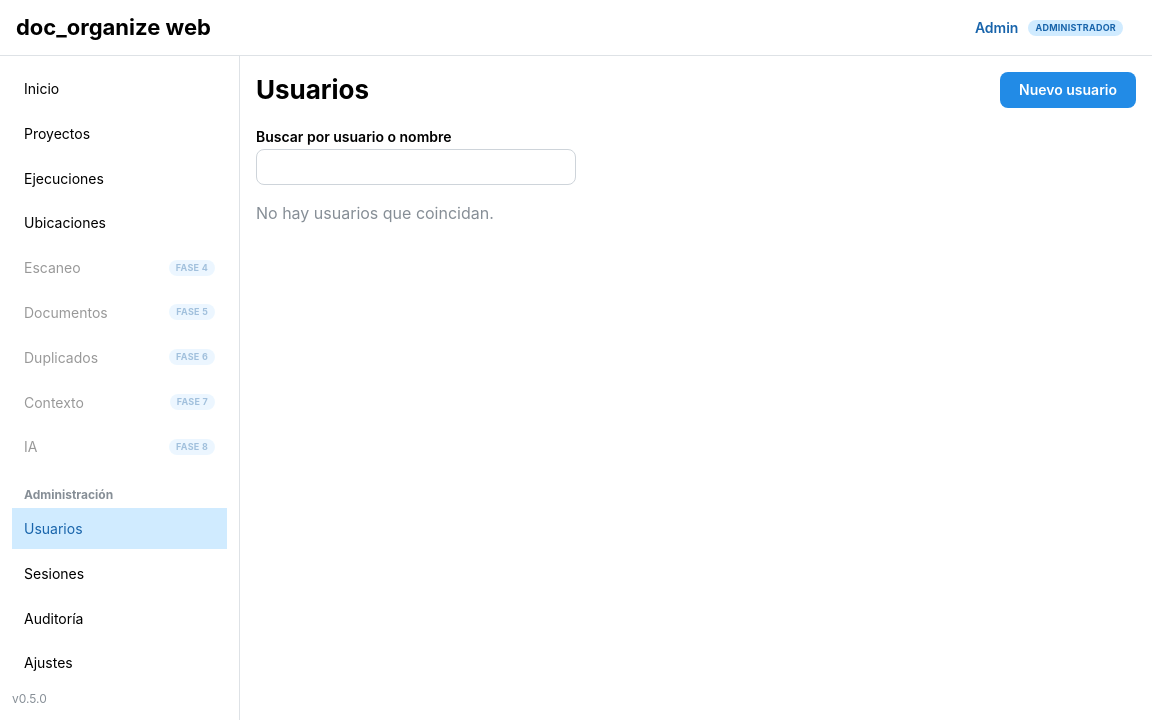
Test case: UsersPage › valida el formulario de alta antes de enviarlo
Click the button "Nuevo usuario".
click(1068, 90)  # box [1000,72,1136,108]
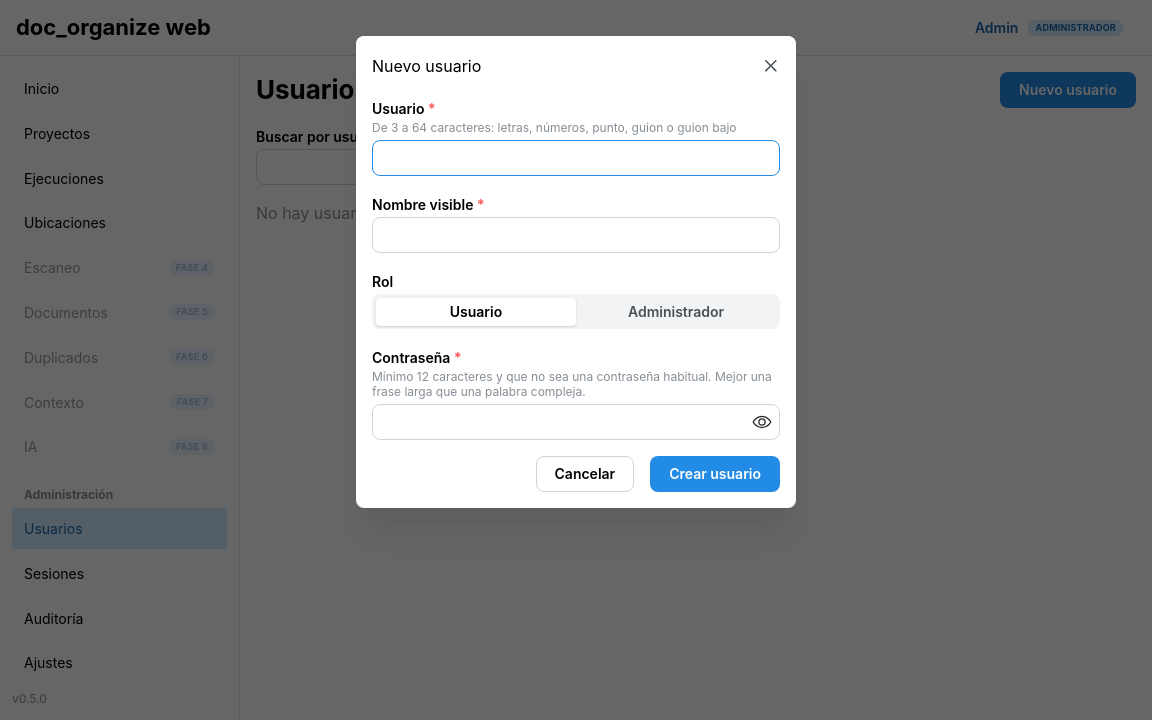
Type "a b" into the field labelled "Usuario *".
click(576, 158); type("a b")  # box [372,140,780,176]
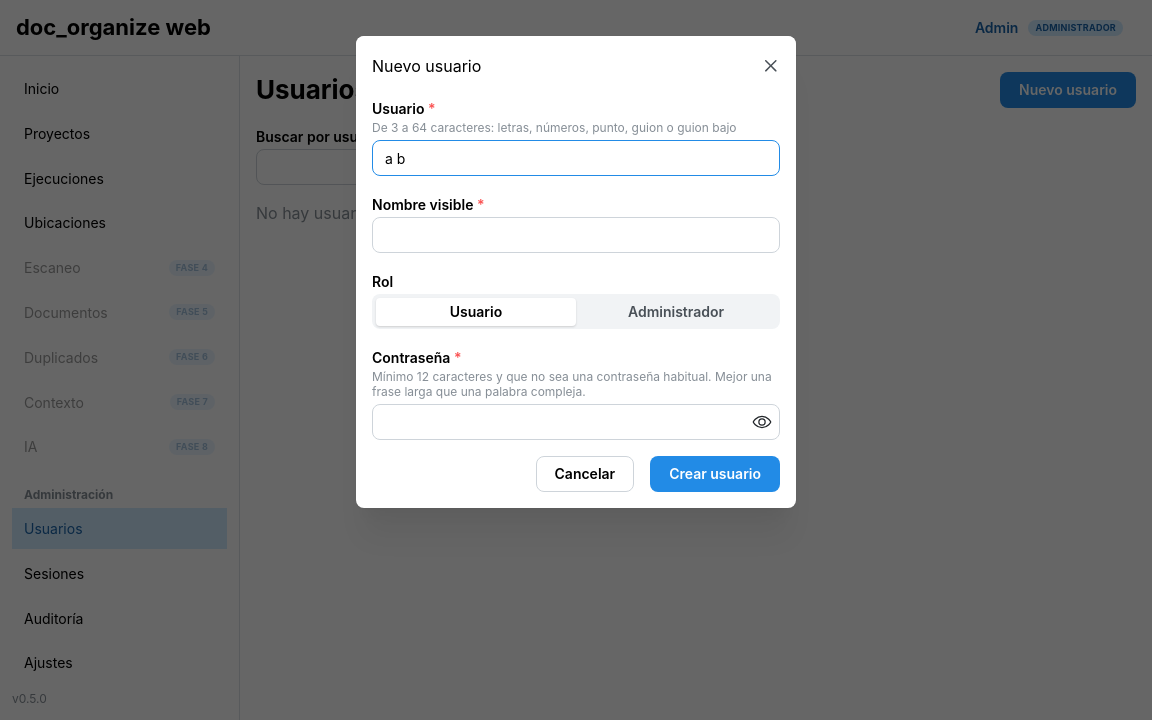
Type "corta" into the password field labelled "Contraseña *".
click(576, 422); type("corta")  # box [373,405,779,439]
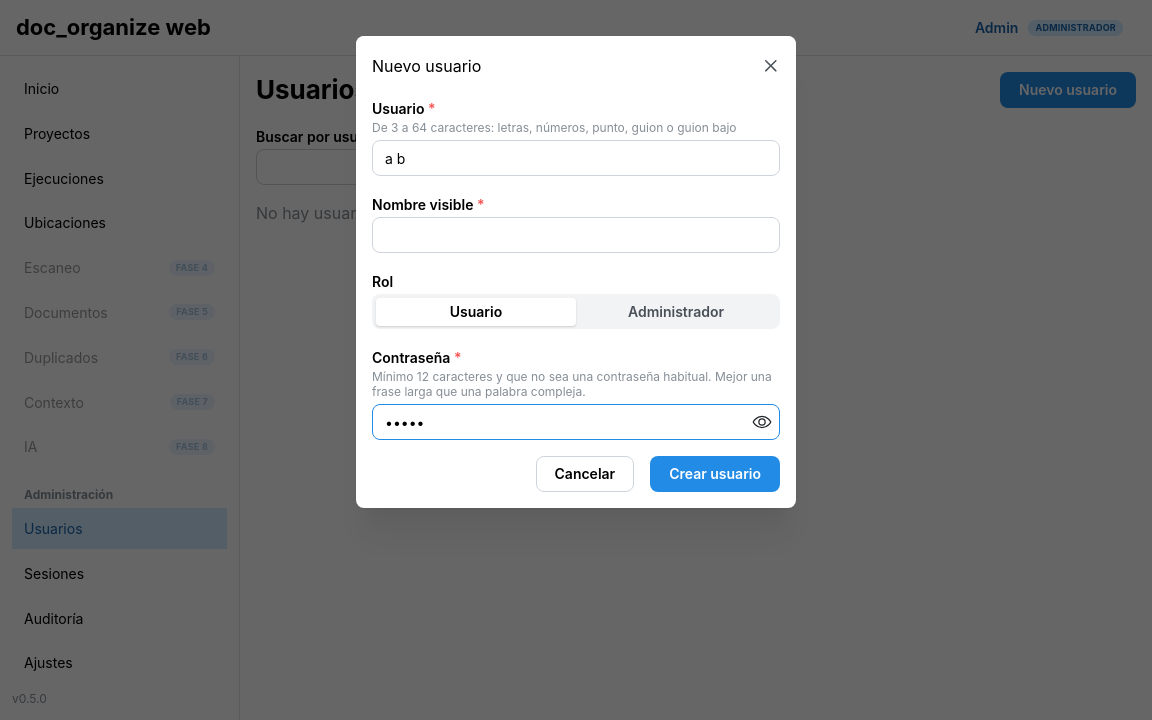
Click the button "Crear usuario".
click(715, 474)  # box [650,456,780,492]
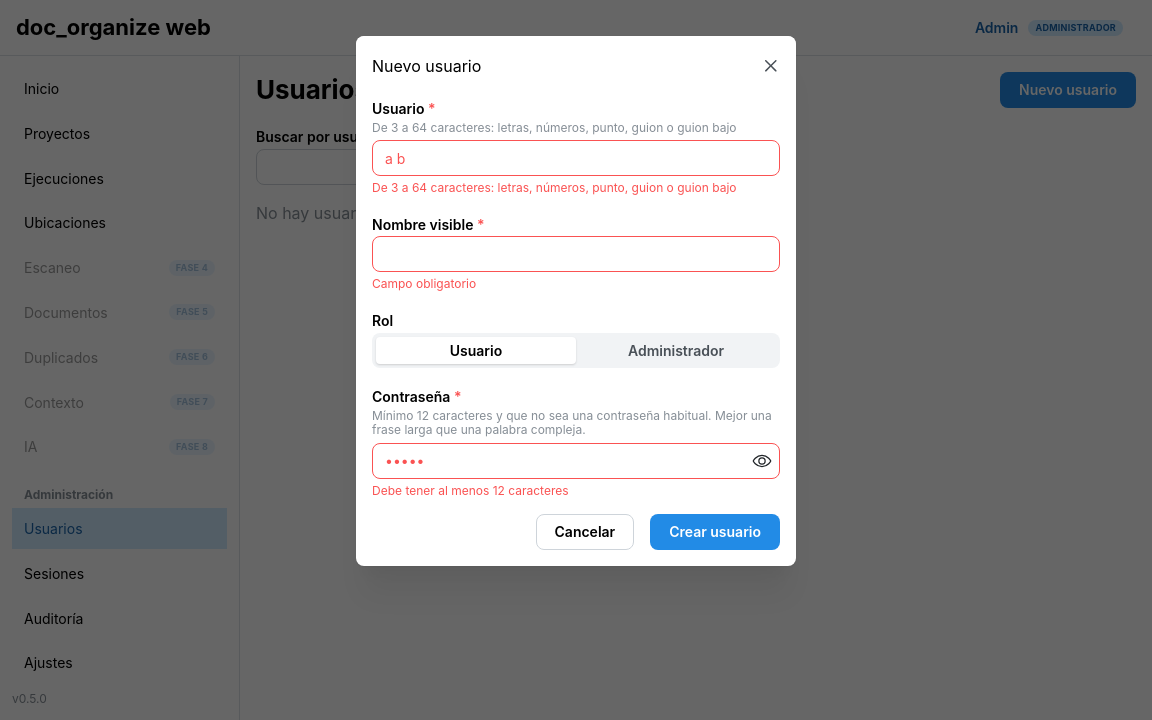
Expected: the text "Debe tener al menos 12 caracteres" is shown, [372,483,568,498]
Expected: the text "Campo obligatorio" is shown, [372,276,476,291]
